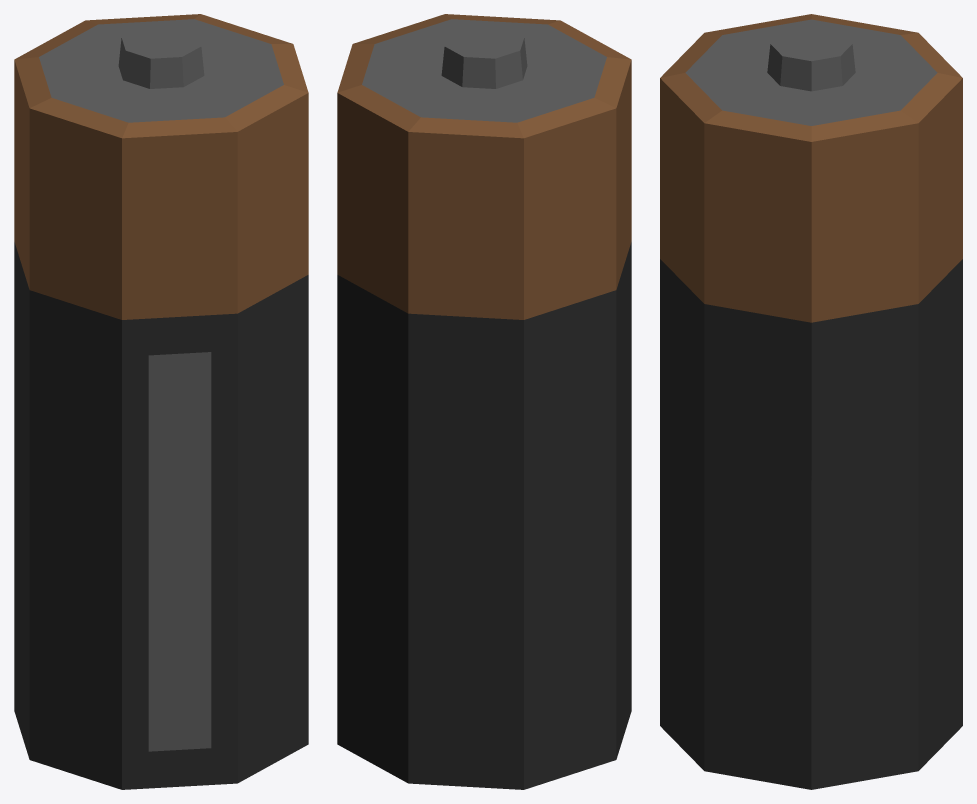
The model's file is battery_small.glb.
3 views of the same model, side by side, from view 1: azimuth 30°, elevation 25°; view 2: azimuth 150°, elevation 25°; view 3: azimuth 270°, elevation 25° (orthographic).
Visible parts, largest first — view 1: Battery_Small; view 2: Battery_Small; view 3: Battery_Small.
Boxes of the visible parts, box(x1,y1,x2,y2) form: Battery_Small: box(14, 14, 308, 789); Battery_Small: box(337, 14, 631, 789); Battery_Small: box(660, 14, 962, 789).
Bounding box in the file's own units: 0.1838 × 0.4568 × 0.1838.
